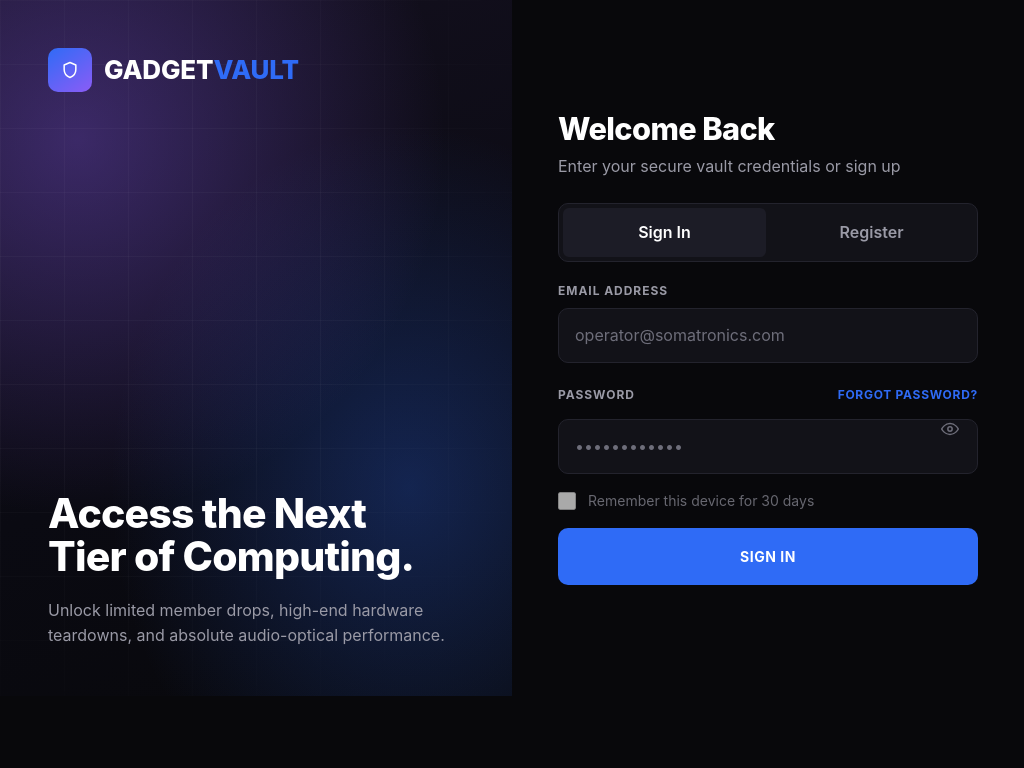
Test: registering › switching tabs clears the other form's error
Step 1. Type "hanre@sen371.test" into the field labelled "Email address" → {"x": 768, "y": 336}, box [558,308,978,363]
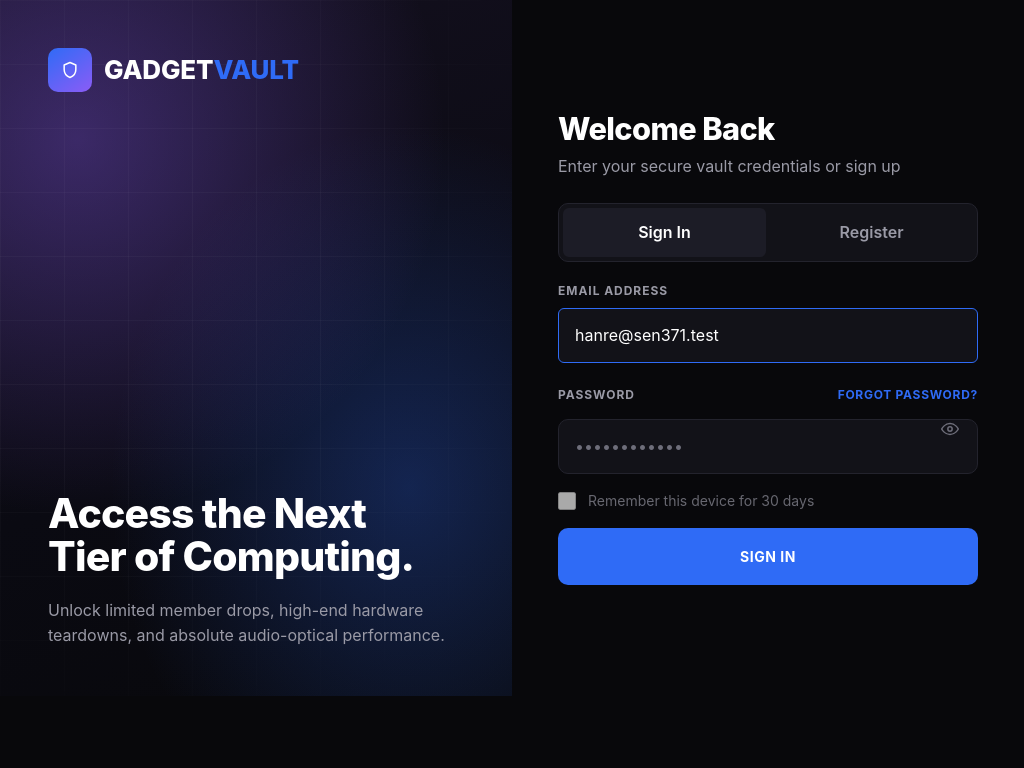
Step 2. Type "wrong" into the password field labelled "Password" → {"x": 768, "y": 446}, box [558,419,978,474]
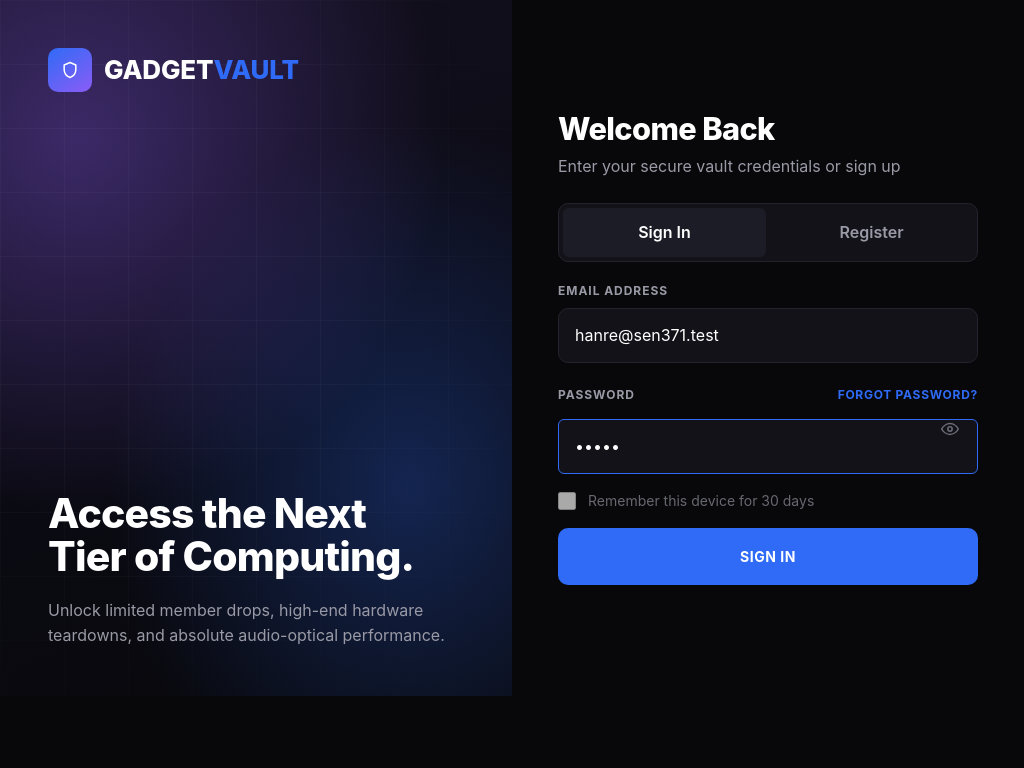
Step 3. Click the button "Sign In" → {"x": 768, "y": 556}, box [558,528,978,585]
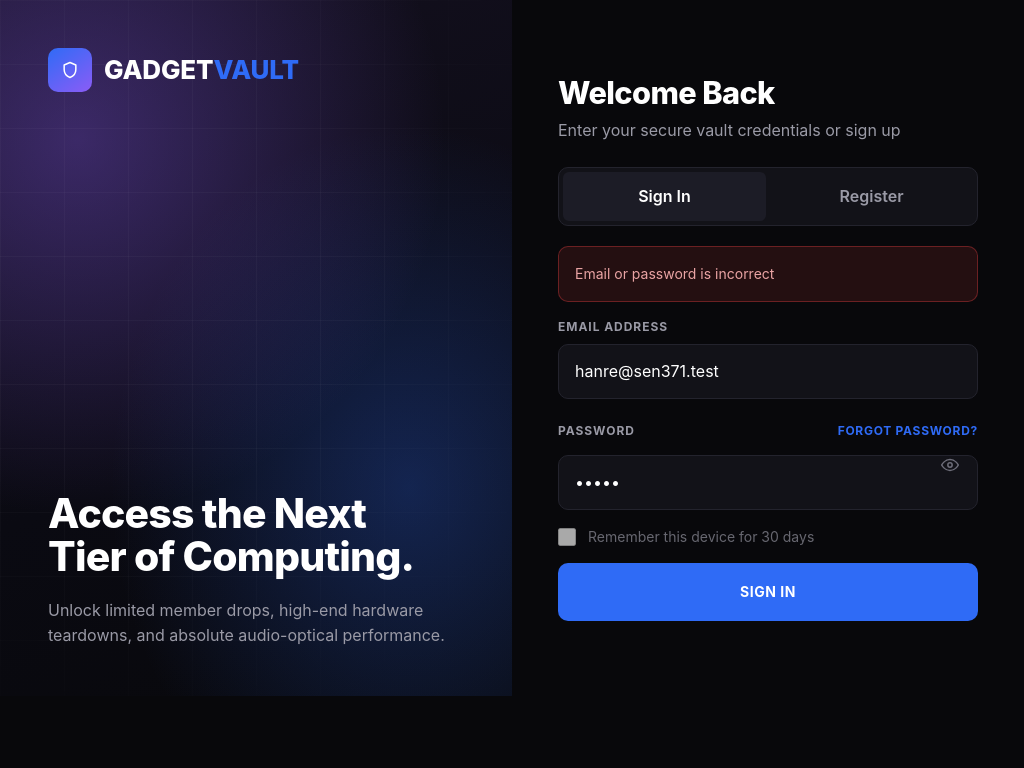
Now the text "Email or password is incorrect" is shown, box [575,263,774,284]
Step 4. Click the tab "Register" → {"x": 872, "y": 196}, box [770,172,973,221]
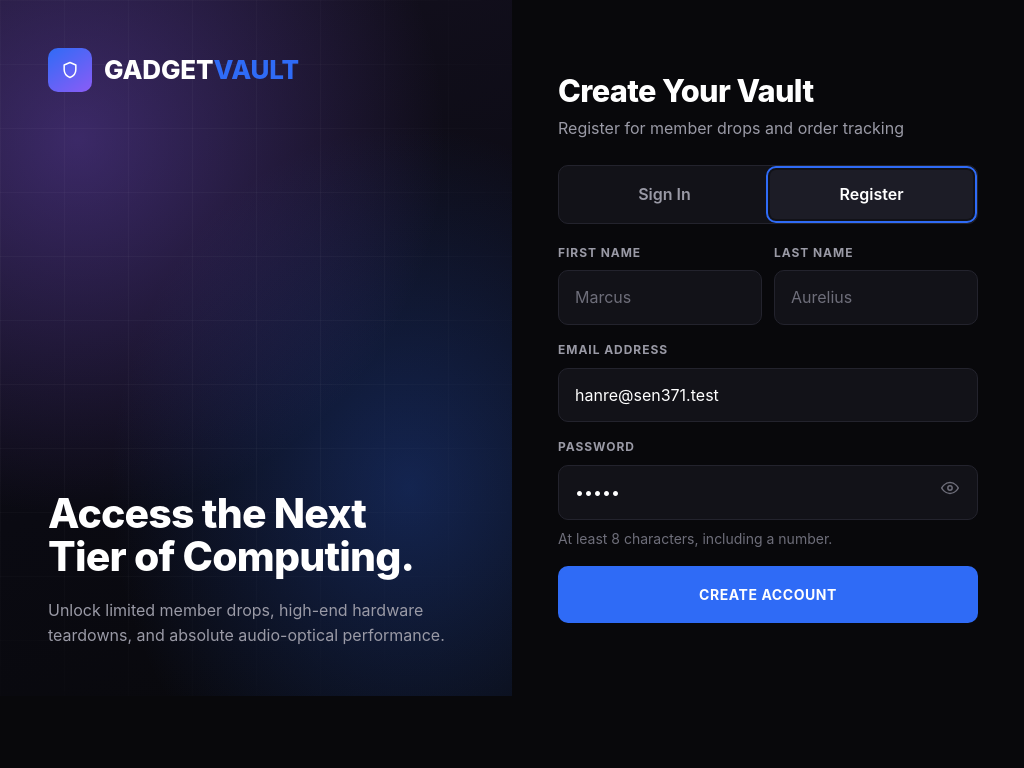
Now the text "Email or password is incorrect" is gone
